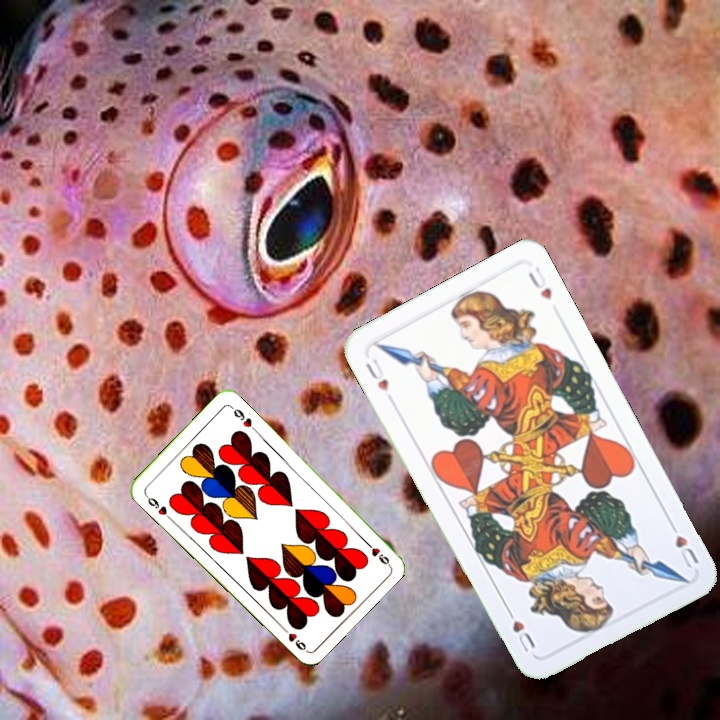H9: (359, 535, 392, 568), (141, 490, 173, 522)
HU: (664, 516, 701, 571), (361, 354, 391, 395)
